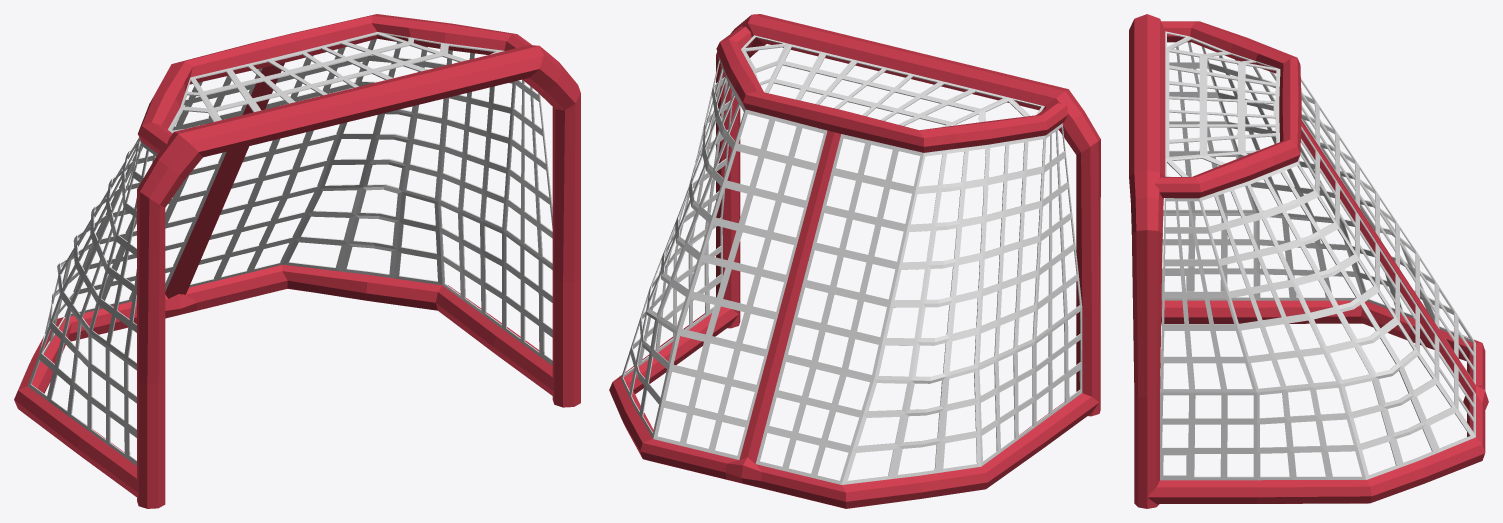
Rendered from Ice Hockey Goals.fbx.
3 renders of one model, left to right at view 1: azimuth 30°, elevation 25°; view 2: azimuth 150°, elevation 25°; view 3: azimuth 270°, elevation 25°, orthographic. The views are drawn at different scales.
Parts seen in each view (by area): view 1: Ice Hockey Goals, Netting; view 2: Netting, Ice Hockey Goals; view 3: Netting, Ice Hockey Goals.
Part boxes in pixels (bbox=[...]): Ice Hockey Goals: bbox=[14, 14, 580, 508]; Netting: bbox=[27, 32, 552, 465]; Netting: bbox=[621, 35, 1082, 484]; Ice Hockey Goals: bbox=[609, 14, 1100, 508]; Netting: bbox=[1160, 31, 1475, 480]; Ice Hockey Goals: bbox=[1129, 14, 1488, 508].
Size of the model in its own units: 700 by 550 by 558.
